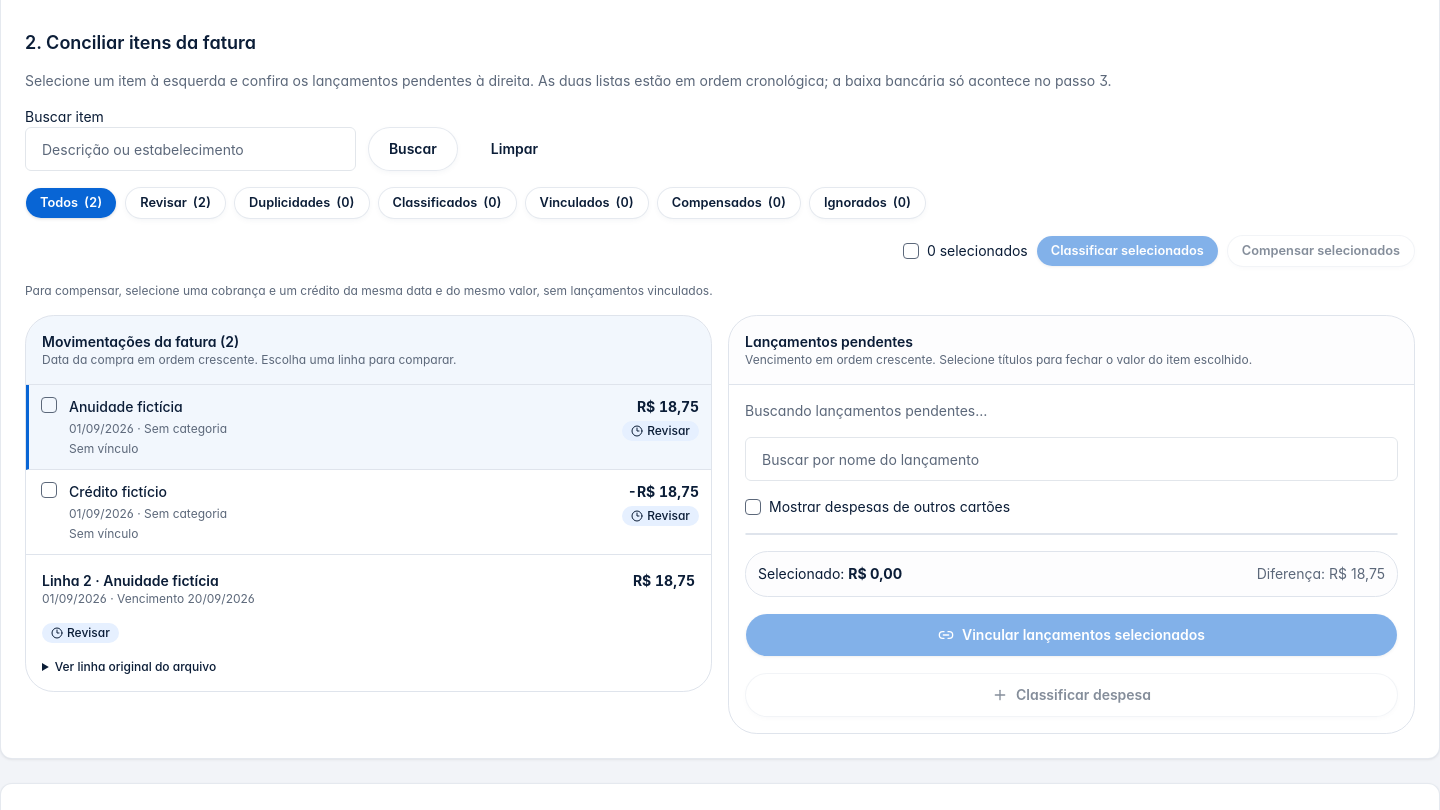
Test: seleciona cobrança e crédito do mesmo dia e só grava após confirmação com motivo
(page scrolled)
Expected: the button "Compensar selecionados" is disabled, [1227,235,1415,267]
Click the checkbox named "Selecionar Anuidade fictícia para classificação": (49, 405) [41,397,57,413]
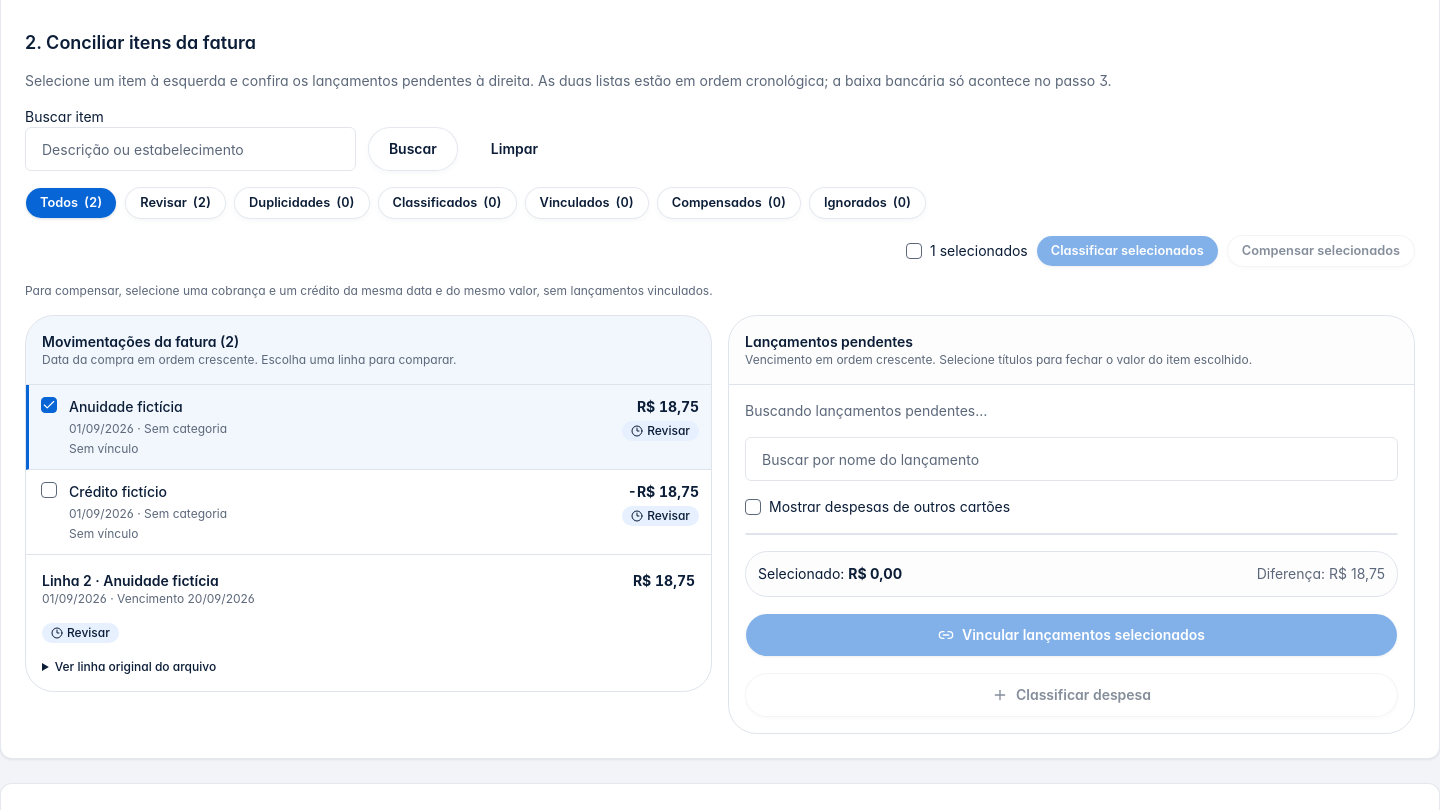
Click the checkbox named "Selecionar Crédito fictício para classificação": (49, 490) [41,482,57,498]
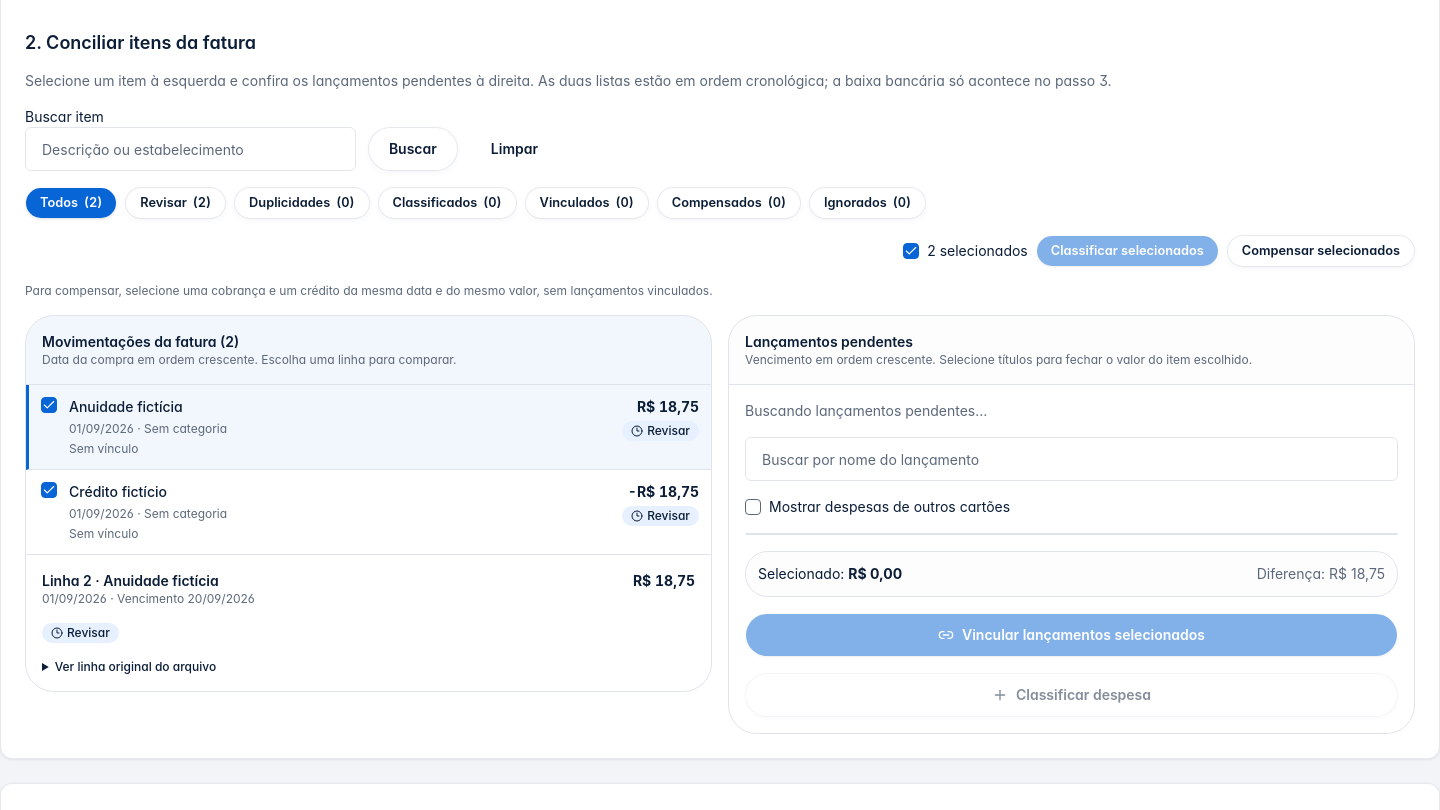
Now the button "Compensar selecionados" is enabled
Click the button "Compensar selecionados": (1321, 251) [1227,235,1415,267]
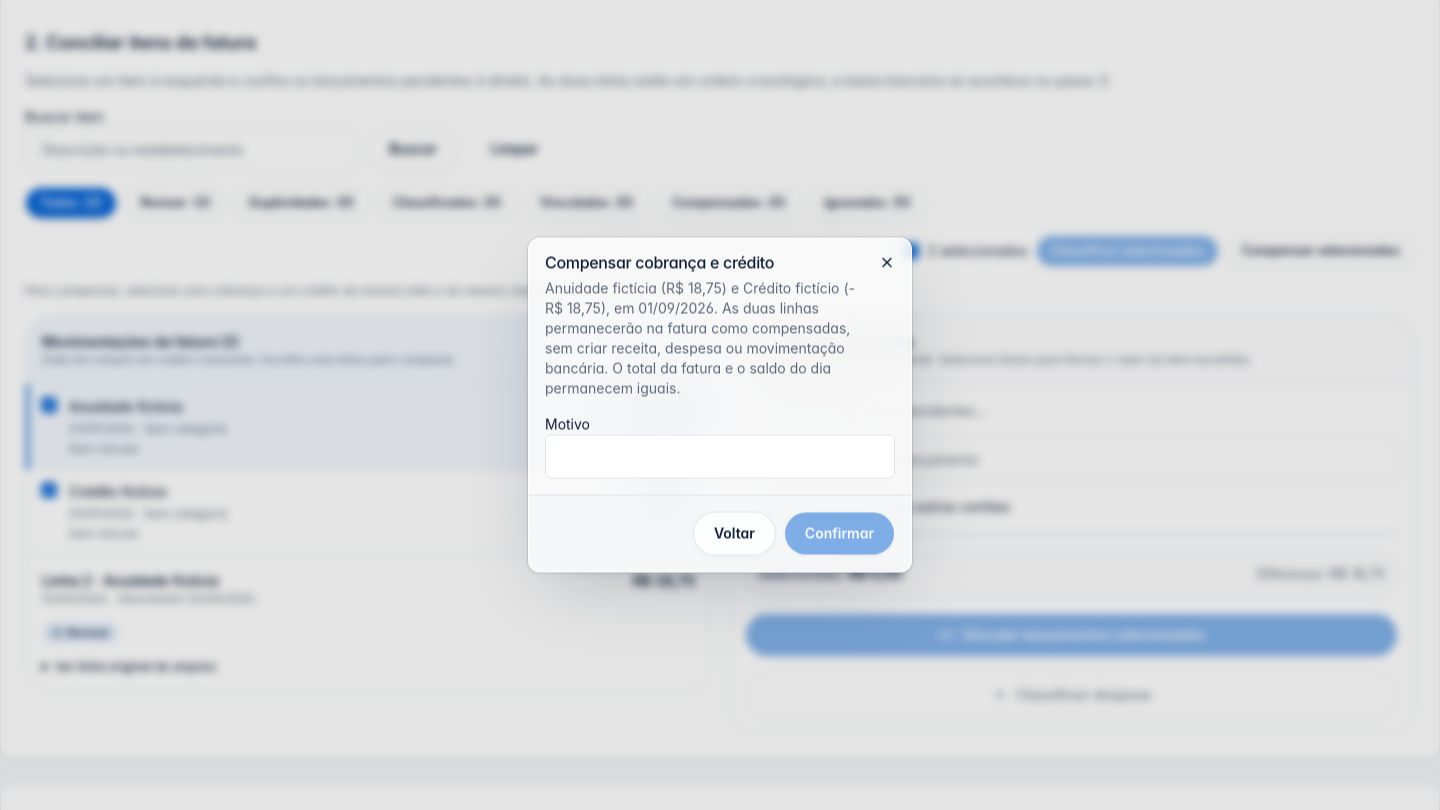
Now the button "Confirmar" is disabled, box [784,512,895,556]
In the field labelled "Motivo": (720, 456) [545,434,895,478], type "Estorno integral da anuidade"
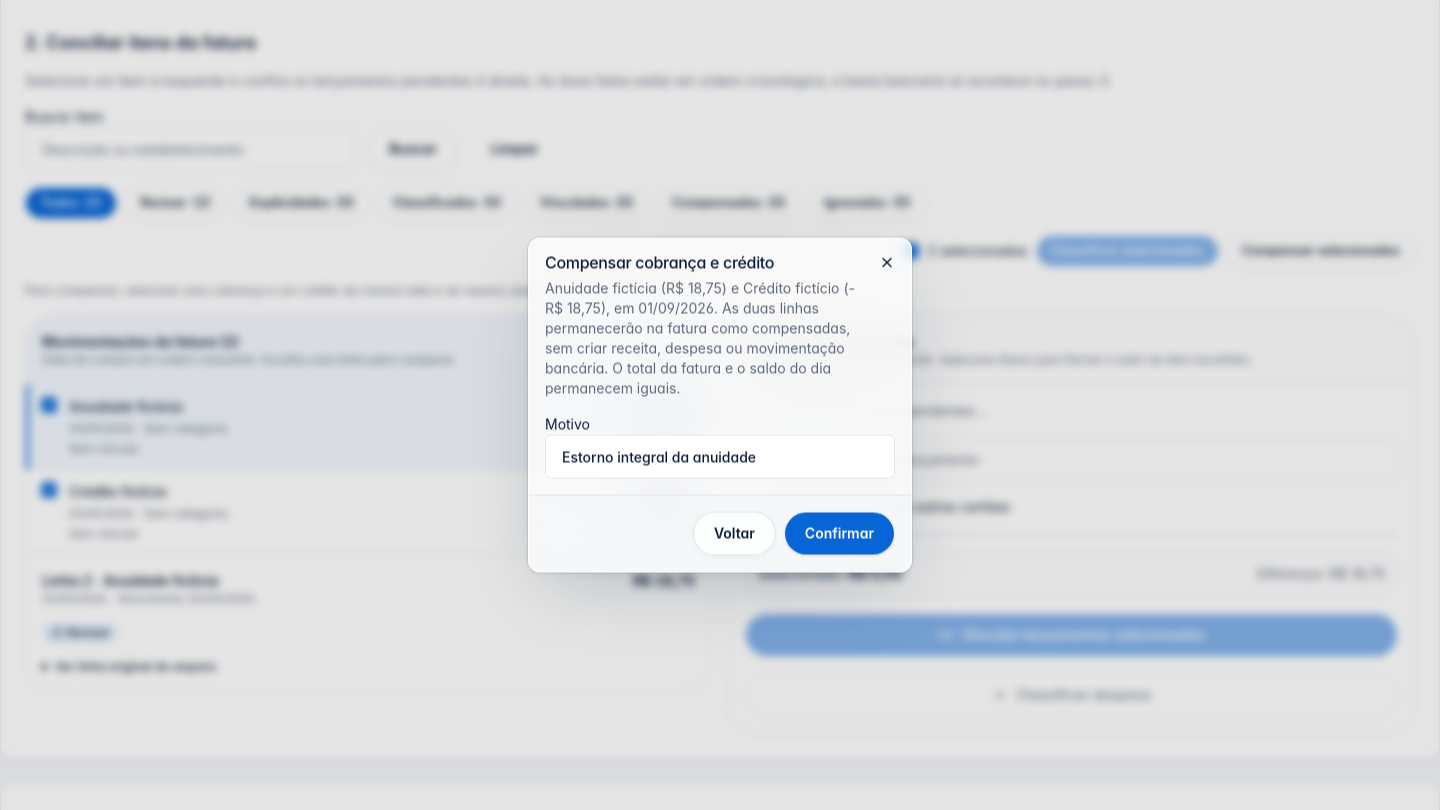
Click the button "Confirmar": (839, 534) [784,512,895,556]
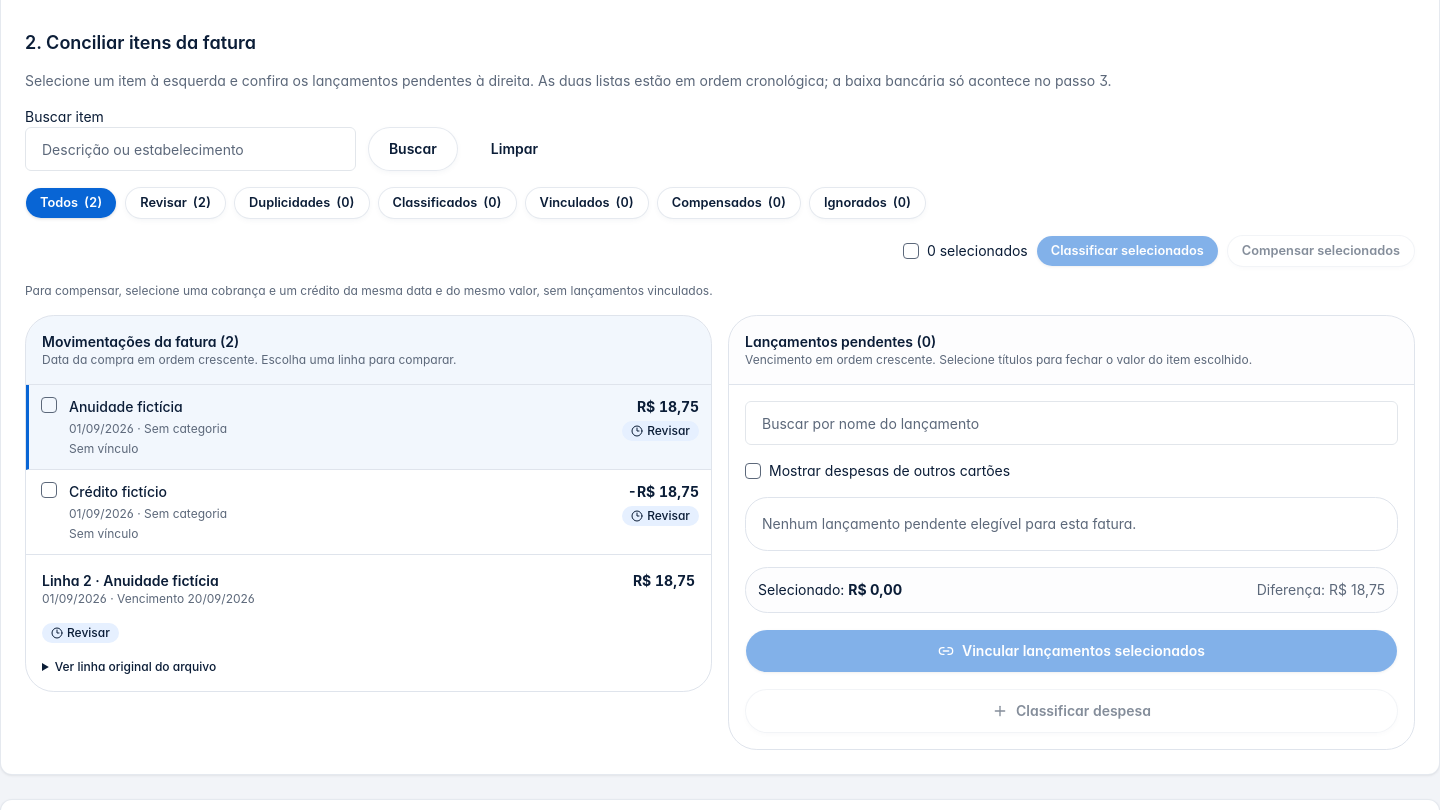
Now the dialog is gone
